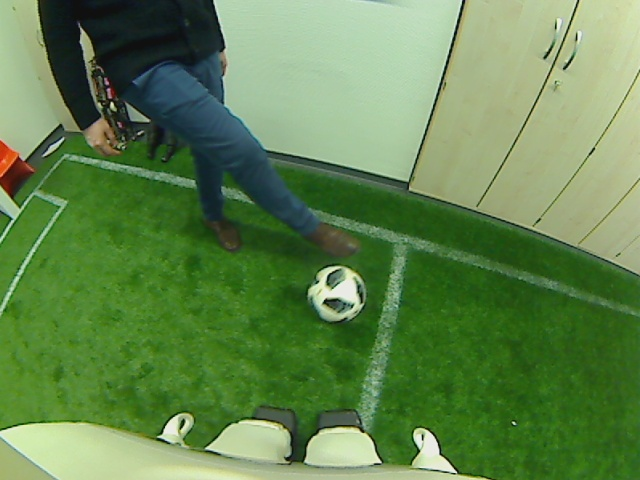ball: (309, 260, 366, 326)
